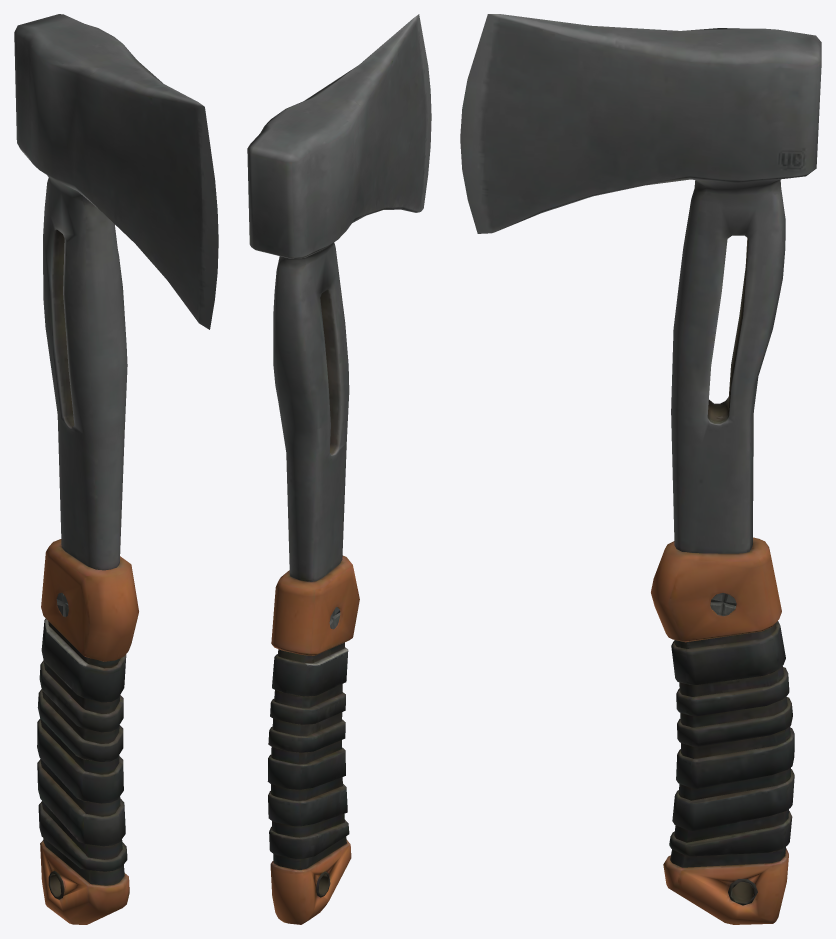
Rendered from hatchet.glb.
3 views of the same model, side by side, from view 1: azimuth 30°, elevation 25°; view 2: azimuth 150°, elevation 25°; view 3: azimuth 270°, elevation 25° (orthographic). The views are drawn at different scales.
Visible parts, largest first — view 1: hatchet; view 2: hatchet; view 3: hatchet.
Boxes of the visible parts, x1,y1,x2,y2 form: hatchet: (14,14,218,924); hatchet: (247,14,431,924); hatchet: (460,14,821,924).
Size of the model in its own units: 0.0258 by 0.2887 by 0.1043.
1 material, 1 textured.
